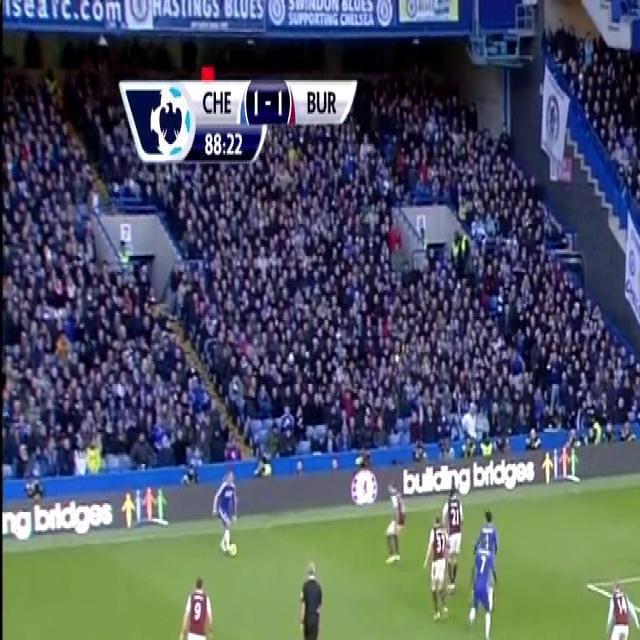referee: (289, 547, 329, 640)
soccer-player: (459, 501, 499, 640), (421, 509, 452, 628), (436, 476, 466, 592), (593, 563, 638, 640), (210, 466, 243, 568), (169, 574, 215, 640), (378, 476, 408, 574)
